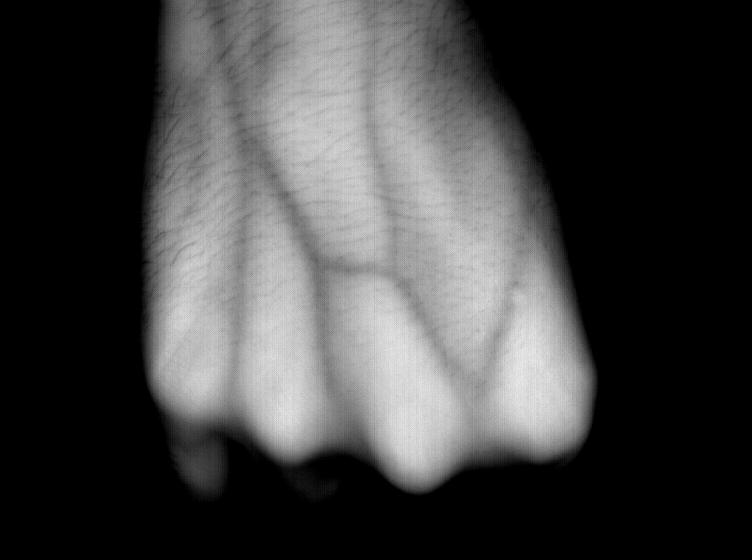Vein: (226, 66, 434, 332)
